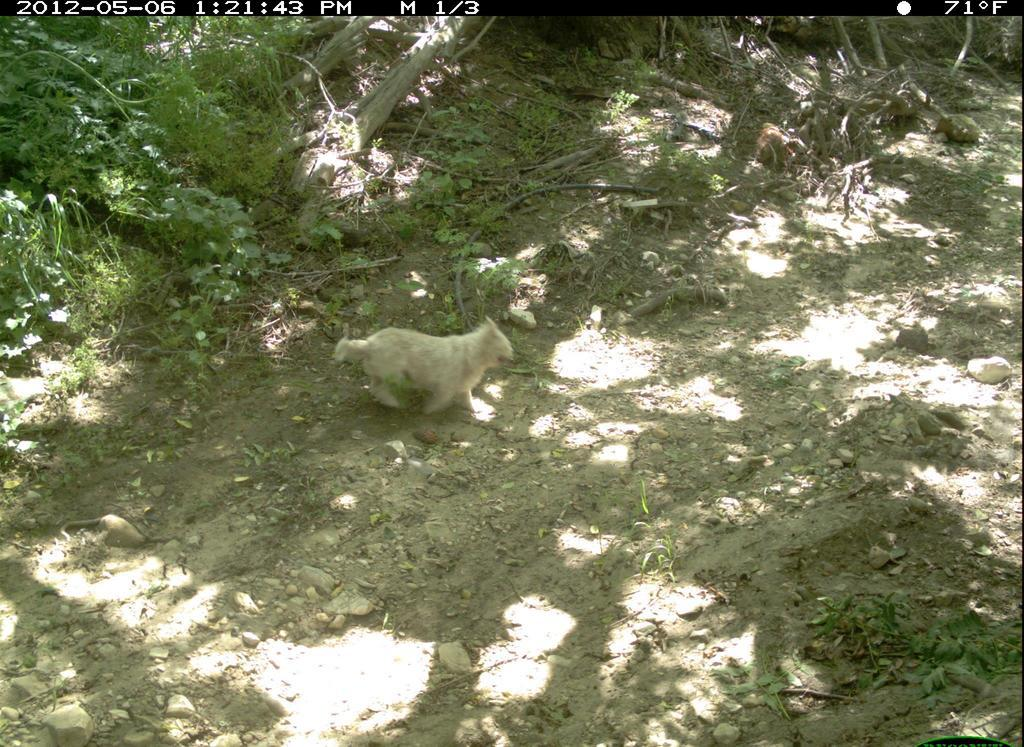dog: (327, 312, 515, 415)
